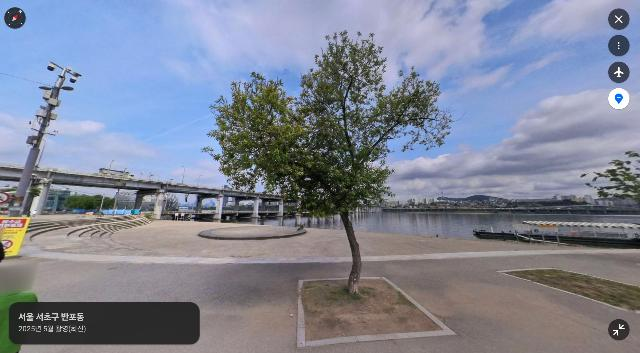other: (201, 30, 466, 297), (580, 150, 640, 209)
